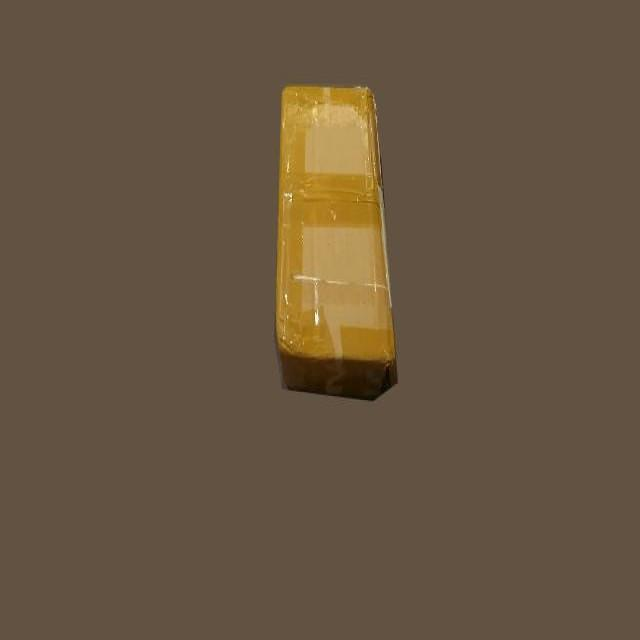Cardboard: (278, 84, 400, 411)
